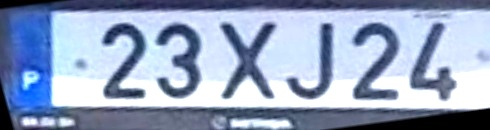2: (93, 14, 154, 104), (347, 17, 405, 106)
3: (148, 18, 210, 103)
4: (405, 18, 464, 105)
J: (282, 18, 338, 103)
X: (215, 19, 281, 103)
